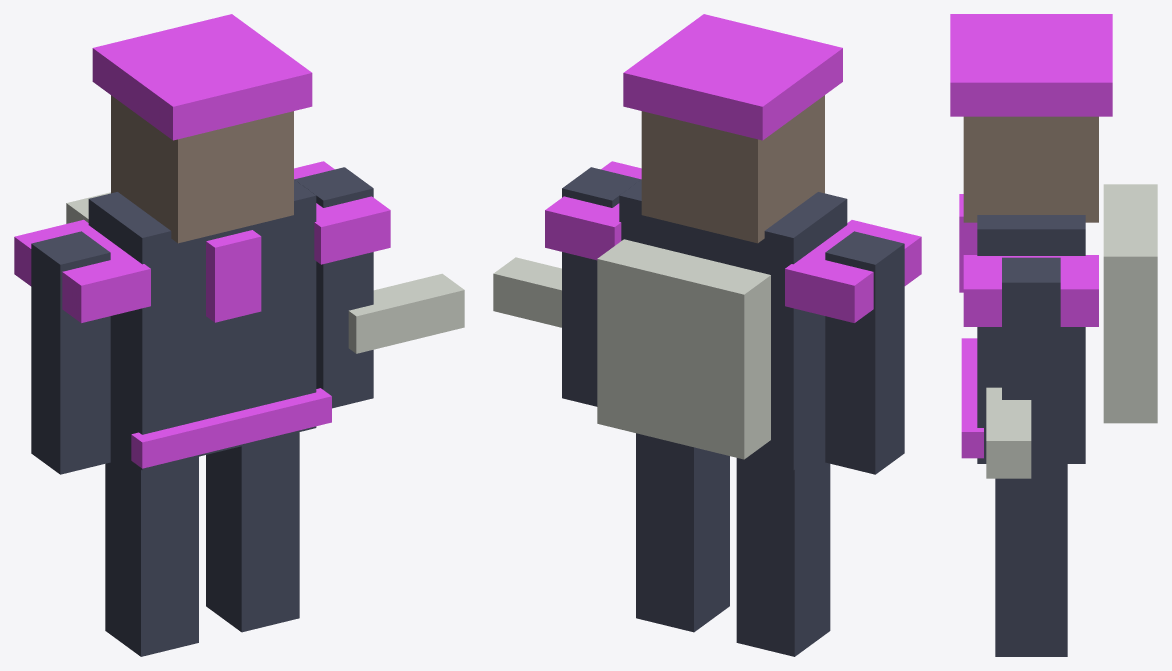
The model's file is 01_kael_holloway_custodian_near_vendor.glb.
The picture shows the model from 3 angles, left to right: view 1: azimuth 30°, elevation 25°; view 2: azimuth 150°, elevation 25°; view 3: azimuth 270°, elevation 25°; orthographic projection.
Parts seen in each view (by area): view 1: Kael Holloway, Custodian near Vendor; view 2: Kael Holloway, Custodian near Vendor; view 3: Kael Holloway, Custodian near Vendor.
Part boxes in pixels (box(x1,y1,x2,y2)): Kael Holloway, Custodian near Vendor: box(14, 14, 464, 656); Kael Holloway, Custodian near Vendor: box(493, 14, 921, 656); Kael Holloway, Custodian near Vendor: box(950, 14, 1157, 656).
Bounding box in the file's own units: 1.08 × 1.47 × 0.4857.
